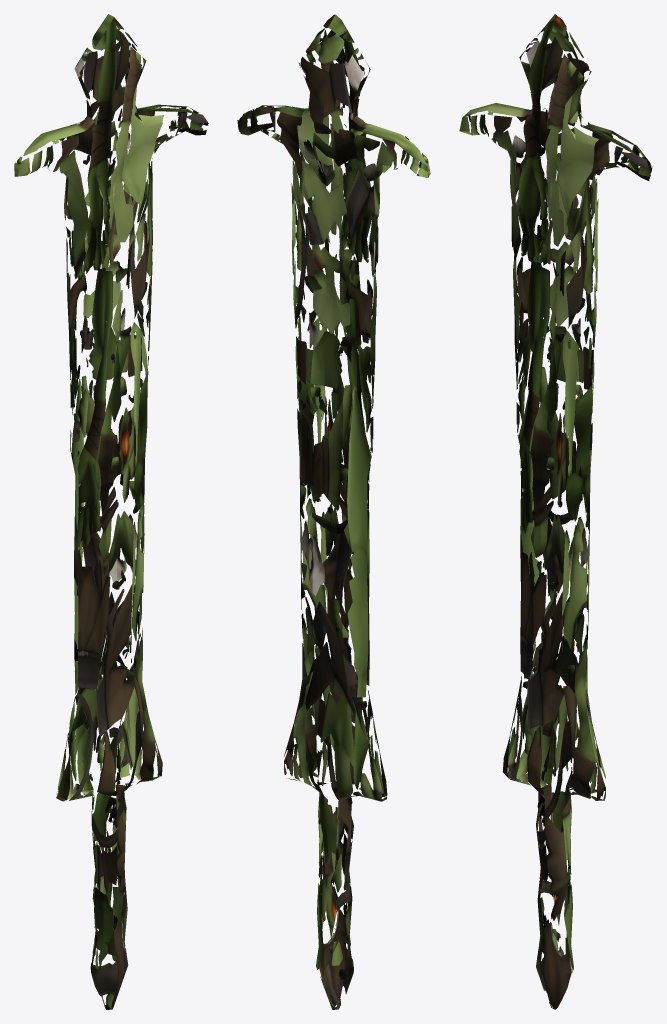
Rendered from North_Soul.fbx.
The picture shows the model from 3 angles, left to right: view 1: azimuth 30°, elevation 25°; view 2: azimuth 150°, elevation 25°; view 3: azimuth 330°, elevation 25°; orthographic projection.
Visible parts, largest first — view 1: Mesh_0; view 2: Mesh_0; view 3: Mesh_0.
Part boxes in pixels (<box>): Mesh_0: <box>14,14,208,1009</box>; Mesh_0: <box>237,14,430,1009</box>; Mesh_0: <box>459,14,652,1009</box>.
Size of the model in its own units: 20.12 by 100 by 4.05.
